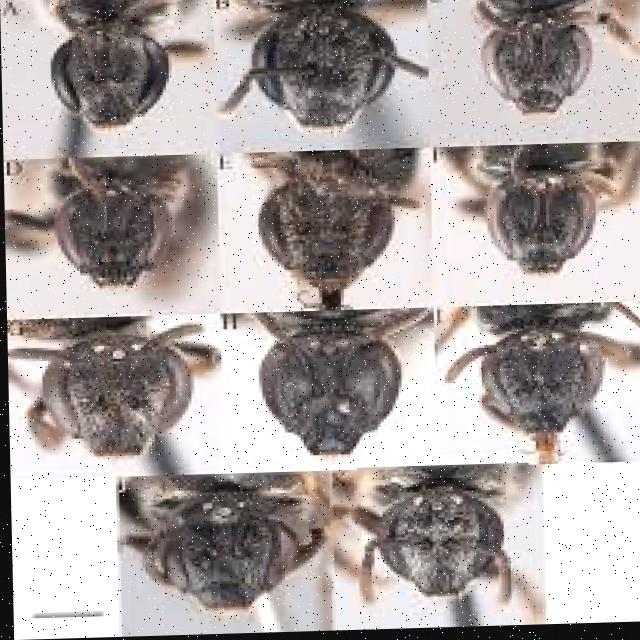Lasioglossum: (238, 300, 437, 474), (120, 471, 340, 614), (461, 310, 640, 485), (243, 138, 426, 301), (354, 463, 529, 625), (28, 310, 205, 466), (459, 122, 615, 294), (34, 146, 205, 302), (244, 0, 426, 135), (18, 0, 181, 139), (467, 0, 625, 130)
